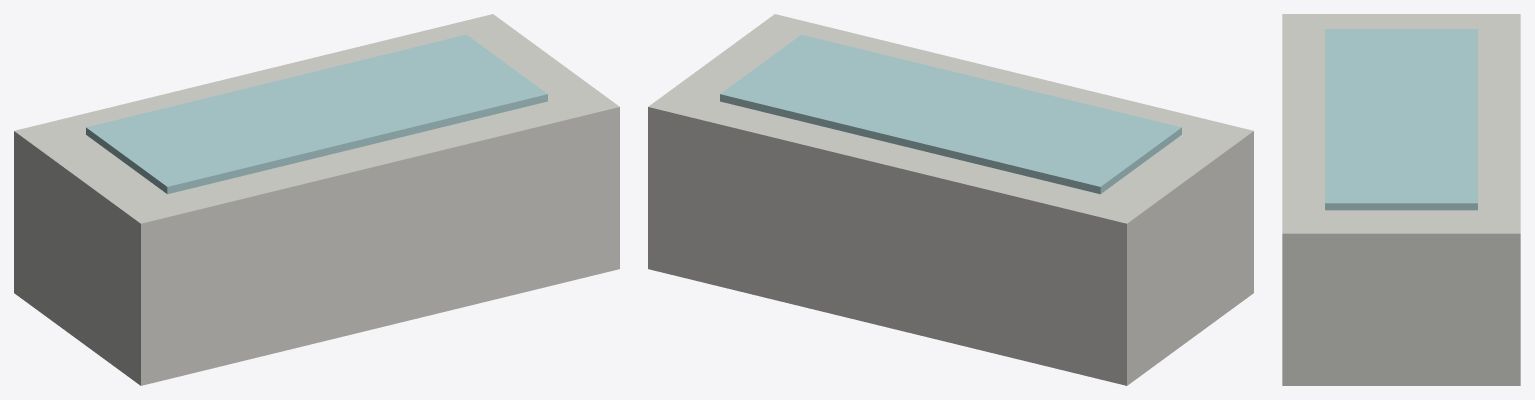
The model's file is bathtub.glb.
3 views of the same model, side by side, from view 1: azimuth 30°, elevation 25°; view 2: azimuth 150°, elevation 25°; view 3: azimuth 270°, elevation 25° (orthographic). The views are drawn at different scales.
Bounding box in the file's own units: 1.7 × 0.5775 × 0.78.
